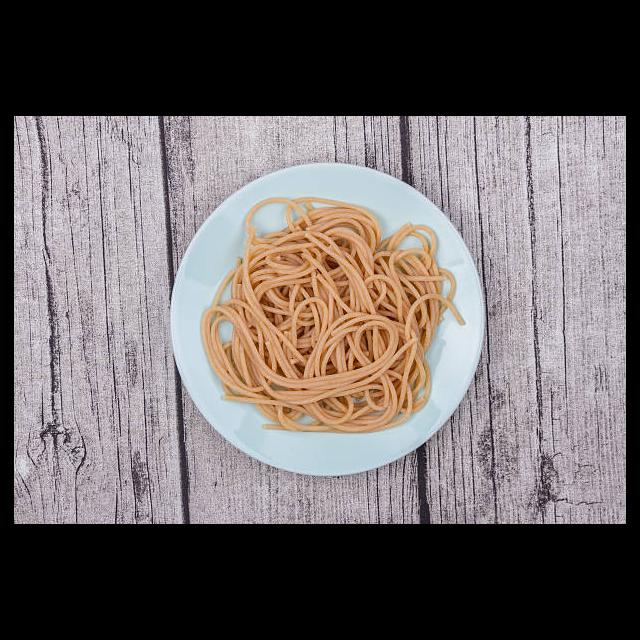noodles: (200, 194, 468, 432)
